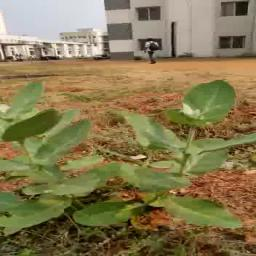Calotropis: (116, 164, 183, 192), (184, 83, 230, 122), (174, 196, 229, 224), (132, 118, 176, 148), (46, 110, 80, 144), (6, 200, 65, 218), (191, 139, 226, 168), (102, 198, 140, 220), (32, 173, 71, 193), (6, 123, 44, 142), (30, 148, 56, 172), (17, 81, 33, 113), (77, 189, 92, 218), (78, 174, 109, 188), (67, 160, 98, 167), (0, 220, 26, 228), (1, 157, 14, 172), (16, 156, 28, 171), (233, 136, 255, 143)
